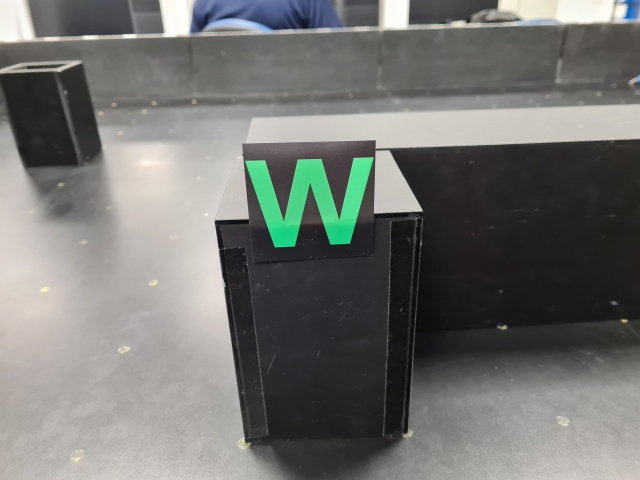alphabet_w: (242, 139, 377, 263)
